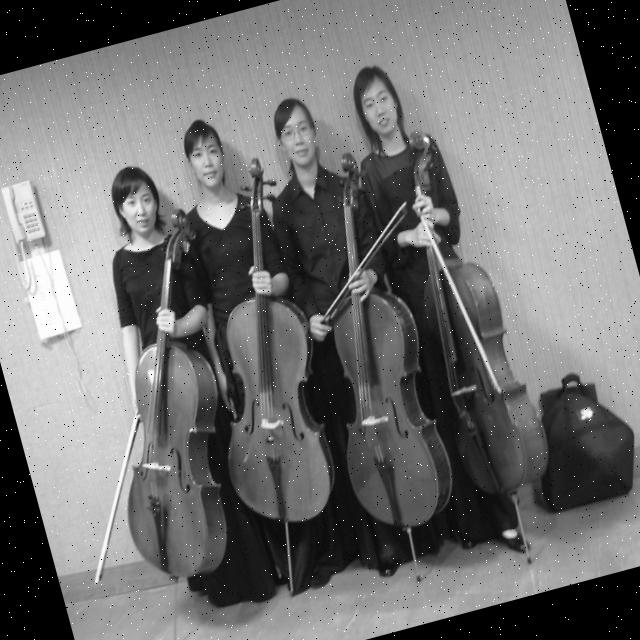cello: (49, 202, 288, 598), (146, 151, 362, 541), (266, 146, 467, 540), (370, 117, 560, 505)
